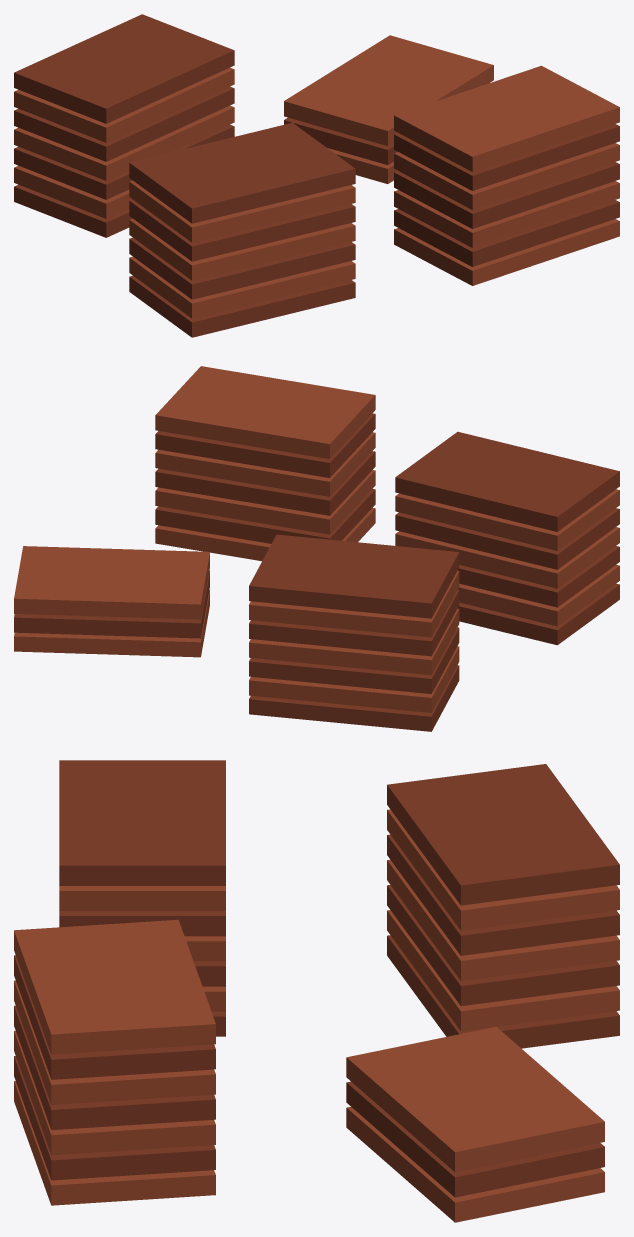
The model's file is pile_roof_tiles_2.glb.
The picture shows the model from 3 angles, top to bottom: view 1: azimuth 30°, elevation 25°; view 2: azimuth 150°, elevation 25°; view 3: azimuth 270°, elevation 25°; orthographic projection. The views are drawn at different scales.
Parts seen in each view (by area): view 1: pile_roof_tiles_2; view 2: pile_roof_tiles_2; view 3: pile_roof_tiles_2.
Boxes of the visible parts, x1,y1,x2,y2 form: pile_roof_tiles_2: [14, 14, 619, 337]; pile_roof_tiles_2: [14, 366, 619, 731]; pile_roof_tiles_2: [14, 760, 619, 1222].
Size of the model in its own units: 1.24 by 0.34 by 1.09.
